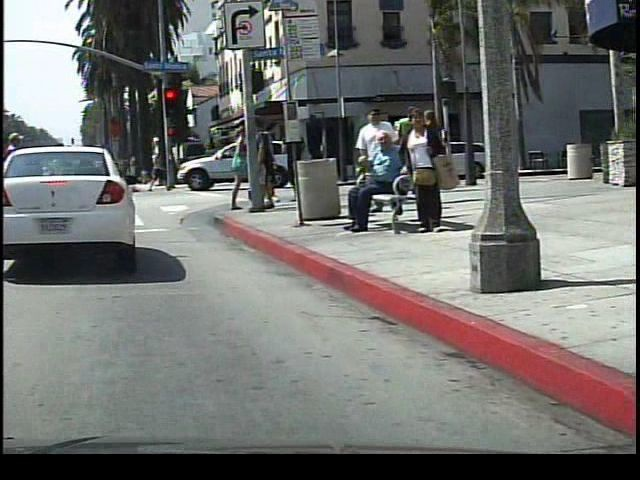person: (341, 133, 410, 240), (394, 107, 446, 235), (224, 123, 247, 213), (143, 149, 169, 197)
